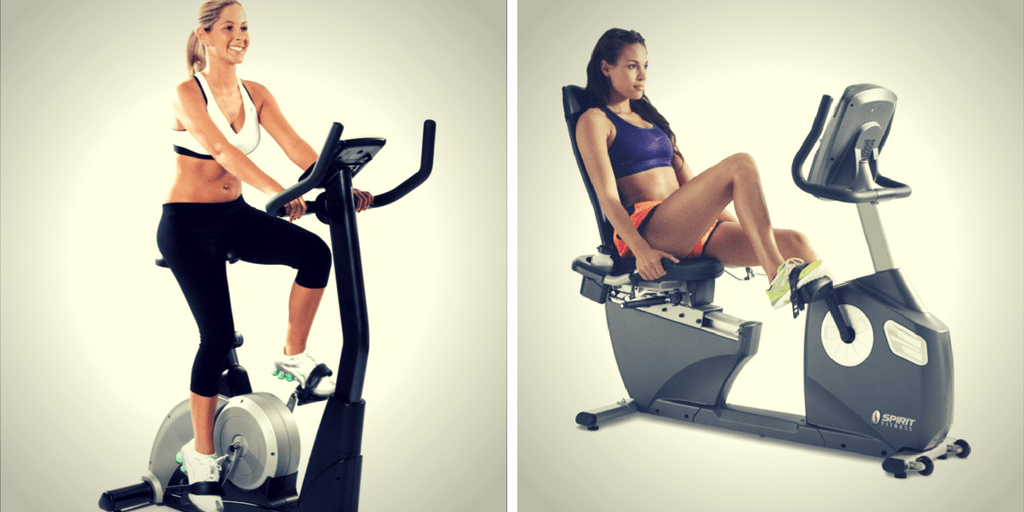gym_bike: (547, 73, 974, 476), (106, 110, 439, 512)
